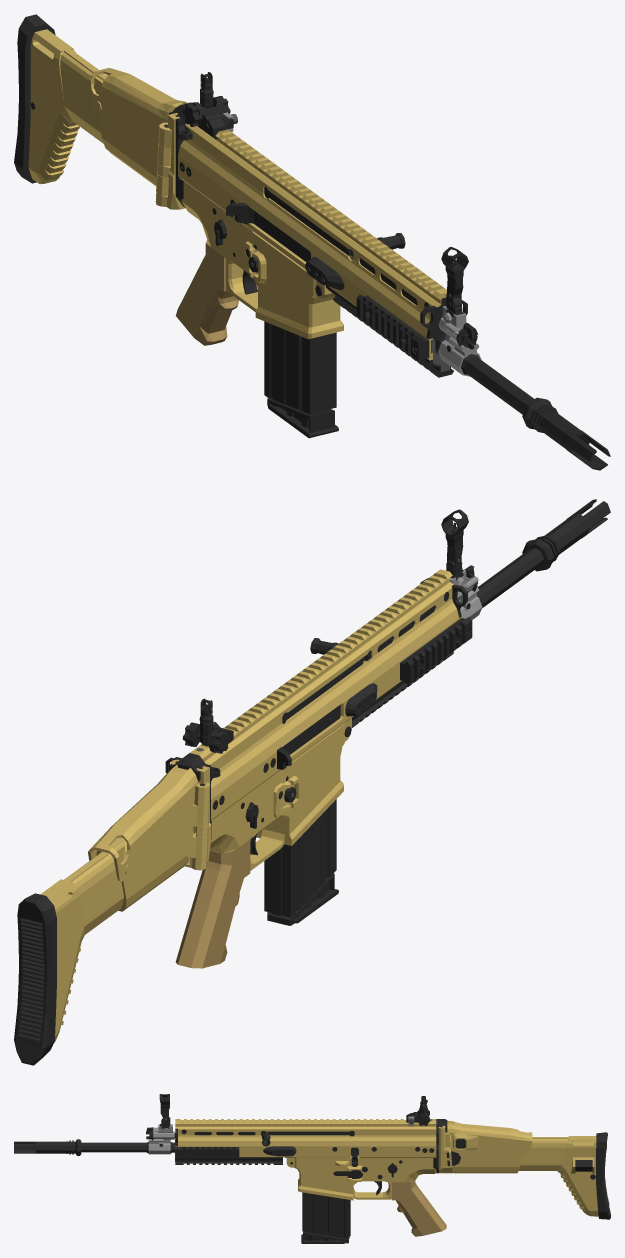
File: scar-h.glb
The picture shows the model from 3 angles, top to bottom: view 1: azimuth 30°, elevation 25°; view 2: azimuth 150°, elevation 25°; view 3: azimuth 270°, elevation 25°; orthographic projection. The views are drawn at different scales.
Visible parts, largest first — view 1: Object_5, Object_6, Object_7, Object_2, Object_10, Object_8; view 2: Object_5, Object_6, Object_7, Object_10, Object_2, Object_8; view 3: Object_5, Object_6, Object_7, Object_10, Object_2, Object_8.
Boxes of the visible parts, x1,y1,x2,y2 form: Object_5: (28, 29, 446, 360); Object_6: (31, 72, 610, 470); Object_7: (254, 187, 478, 438); Object_2: (175, 240, 239, 345); Object_10: (14, 14, 405, 290); Object_8: (200, 82, 481, 376); Object_5: (40, 569, 461, 1042); Object_6: (165, 499, 610, 855); Object_7: (264, 509, 477, 925); Object_10: (14, 638, 377, 1065); Object_2: (175, 839, 250, 968); Object_8: (211, 569, 482, 724); Object_5: (175, 1119, 598, 1216); Object_6: (14, 1096, 595, 1195); Object_7: (146, 1094, 358, 1243); Object_10: (261, 1131, 610, 1219); Object_2: (392, 1180, 446, 1236); Object_8: (148, 1101, 423, 1154).
Size of the model in its own units: 0.0795 by 0.2796 by 1.04.
